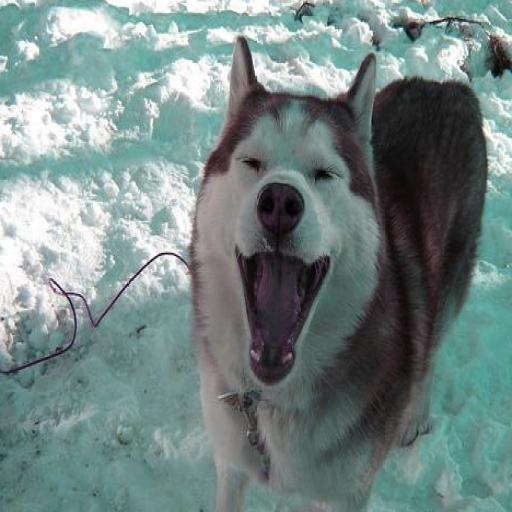dog_face: (208, 29, 378, 385)
